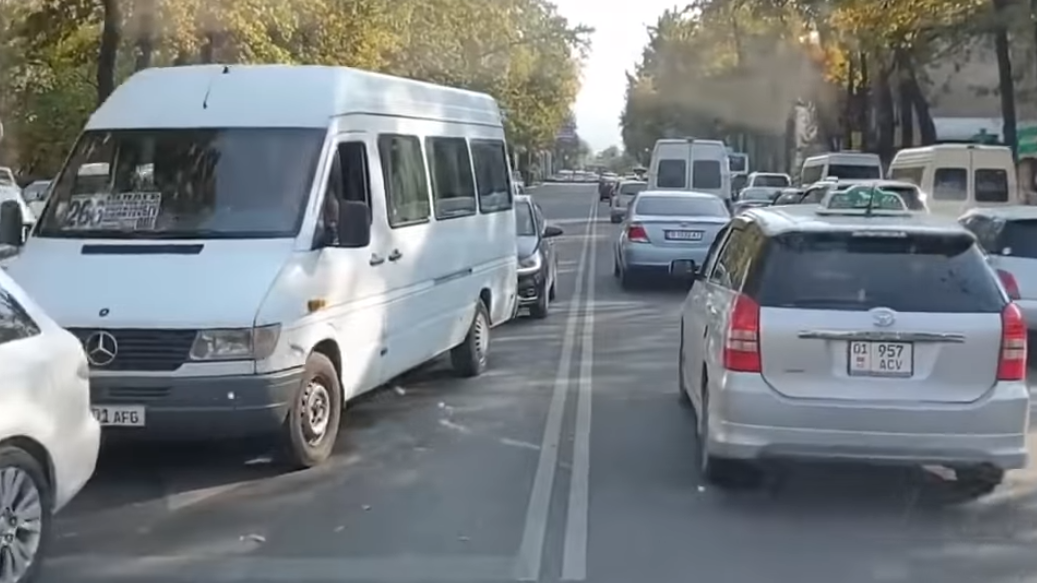non emergency car: (17, 61, 517, 470), (678, 200, 1029, 494), (613, 190, 733, 290), (883, 147, 1023, 223), (648, 133, 735, 213), (512, 194, 560, 317), (797, 154, 884, 194)
